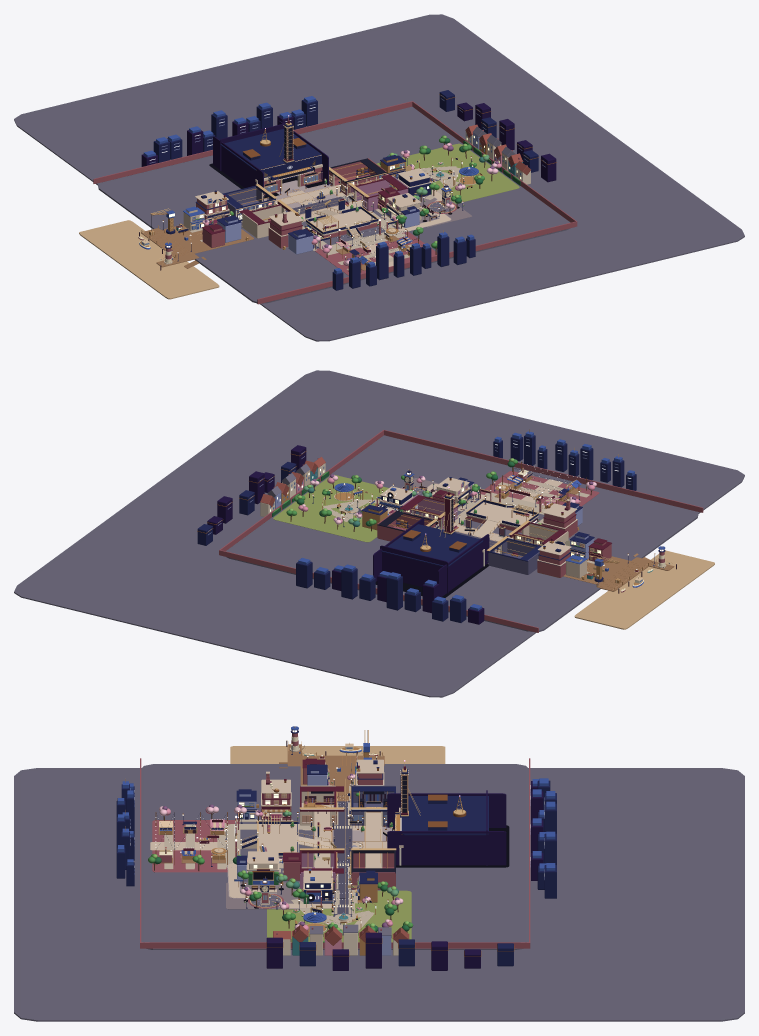
The model's file is DeliveryTheatre.glb.
3 views of the same model, one above another, from view 1: azimuth 30°, elevation 25°; view 2: azimuth 150°, elevation 25°; view 3: azimuth 270°, elevation 25° (orthographic). The views are drawn at different scales.
Visible parts, largest first — view 1: DistantBoulevard, Mainland, HarborBed, ParkMeadow, Ceiling, OuterFence.001, OuterFence.002, GalleryWall, MarketPaving, WharfApron, OuterFence, TerraceDeck (+2 smaller); view 2: DistantBoulevard, Mainland, HarborBed, ParkMeadow, OuterFence.002, Ceiling, Rear, GalleryWall, MarketPaving, OuterFence.001, TerraceDeck, OuterFence (+4 smaller); view 3: DistantBoulevard, Mainland, GalleryWall.001, Ceiling, HarborBed, ParkMeadow, MarketPaving, OuterFence, StreetBed, GalleryWall, TerraceDeck, CrossStreet (+8 smaller).
Part boxes in pixels (x1,y1,x2,y2): DistantBoulevard: (14, 14, 744, 341); Mainland: (98, 108, 570, 304); HarborBed: (79, 220, 219, 299); ParkMeadow: (376, 143, 519, 203); Ceiling: (220, 129, 321, 170); OuterFence.001: (93, 101, 412, 183); OuterFence.002: (257, 221, 577, 304); GalleryWall: (213, 136, 263, 200); MarketPaving: (315, 231, 437, 275); WharfApron: (161, 224, 253, 253); OuterFence: (412, 101, 576, 222); TerraceDeck: (306, 209, 378, 235); DistantBoulevard: (14, 370, 744, 697); Mainland: (226, 436, 698, 631); HarborBed: (574, 550, 714, 629); ParkMeadow: (273, 475, 388, 542); OuterFence.002: (384, 430, 703, 512); Ceiling: (381, 524, 483, 567); Rear: (380, 545, 448, 593); GalleryWall: (438, 534, 489, 597); MarketPaving: (476, 471, 599, 506); OuterFence.001: (219, 550, 538, 632); TerraceDeck: (466, 502, 538, 527); OuterFence: (220, 430, 383, 551); DistantBoulevard: (14, 768, 744, 1021); Mainland: (141, 764, 528, 949); GalleryWall.001: (387, 831, 506, 865); Ceiling: (401, 796, 488, 835); HarborBed: (230, 746, 445, 763); ParkMeadow: (267, 890, 411, 942); MarketPaving: (152, 820, 239, 872); OuterFence: (140, 942, 529, 948); StreetBed: (333, 801, 352, 915); GalleryWall: (387, 793, 506, 827); TerraceDeck: (257, 824, 298, 857); CrossStreet: (365, 811, 382, 868).
Size of what is drawn, in the model's own units: 470 by 76.25 by 510.
